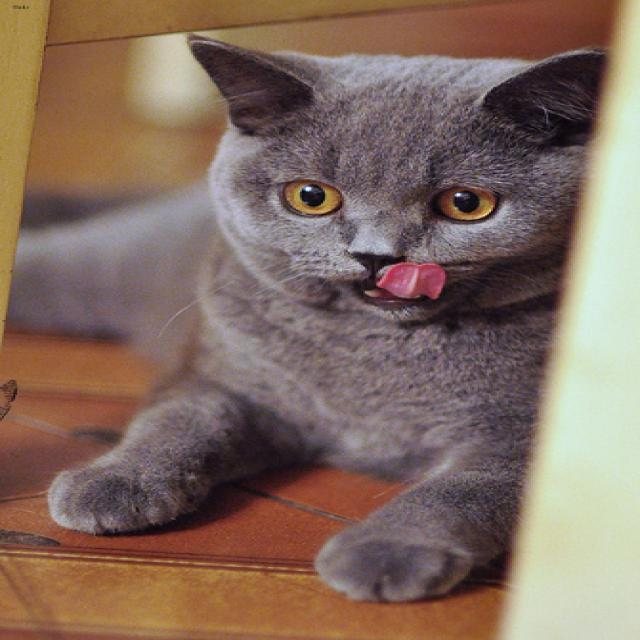British_Shorthair: (185, 36, 606, 320)
